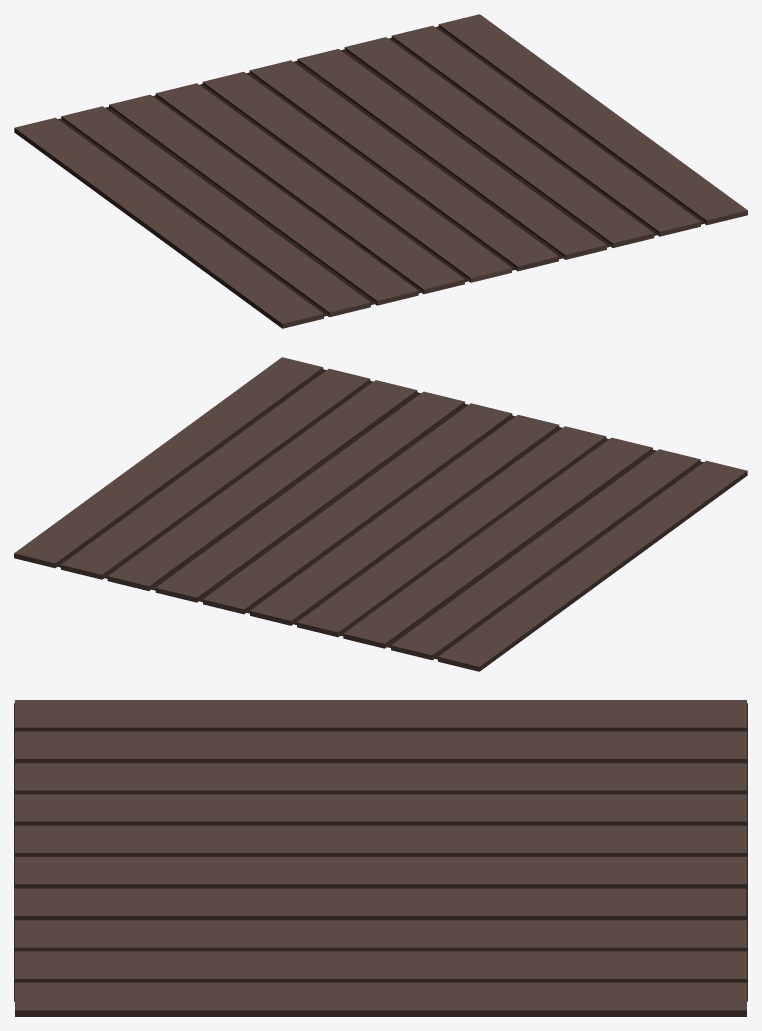
Rendered from ChaoMadeira.fbx.
The picture shows the model from 3 angles, top to bottom: view 1: azimuth 30°, elevation 25°; view 2: azimuth 150°, elevation 25°; view 3: azimuth 270°, elevation 25°; orthographic projection. The views are drawn at different scales.
Visible parts, largest first — view 1: ChaoMadeira_LoPo; view 2: ChaoMadeira_LoPo; view 3: ChaoMadeira_LoPo.
Part boxes in pixels (x1,y1,x2,y2): ChaoMadeira_LoPo: [14, 14, 747, 328]; ChaoMadeira_LoPo: [14, 357, 747, 671]; ChaoMadeira_LoPo: [14, 700, 747, 1016].
Size of the model in its own units: 200 by 2 by 200.
